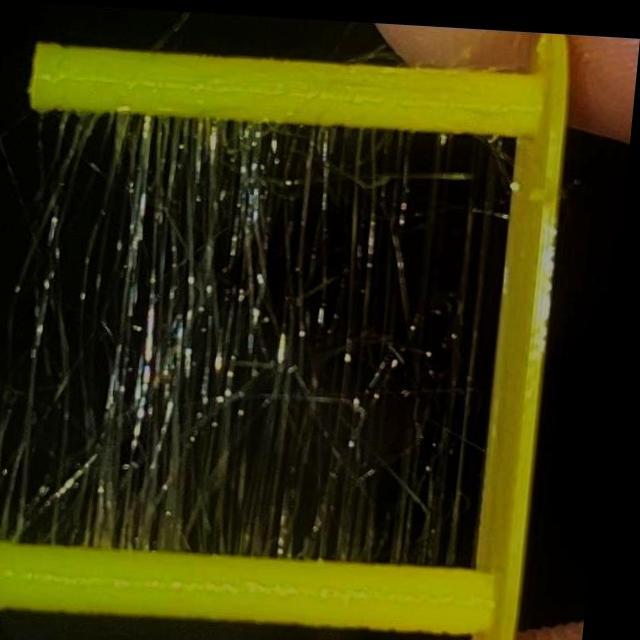stringing: (1, 93, 526, 566)
